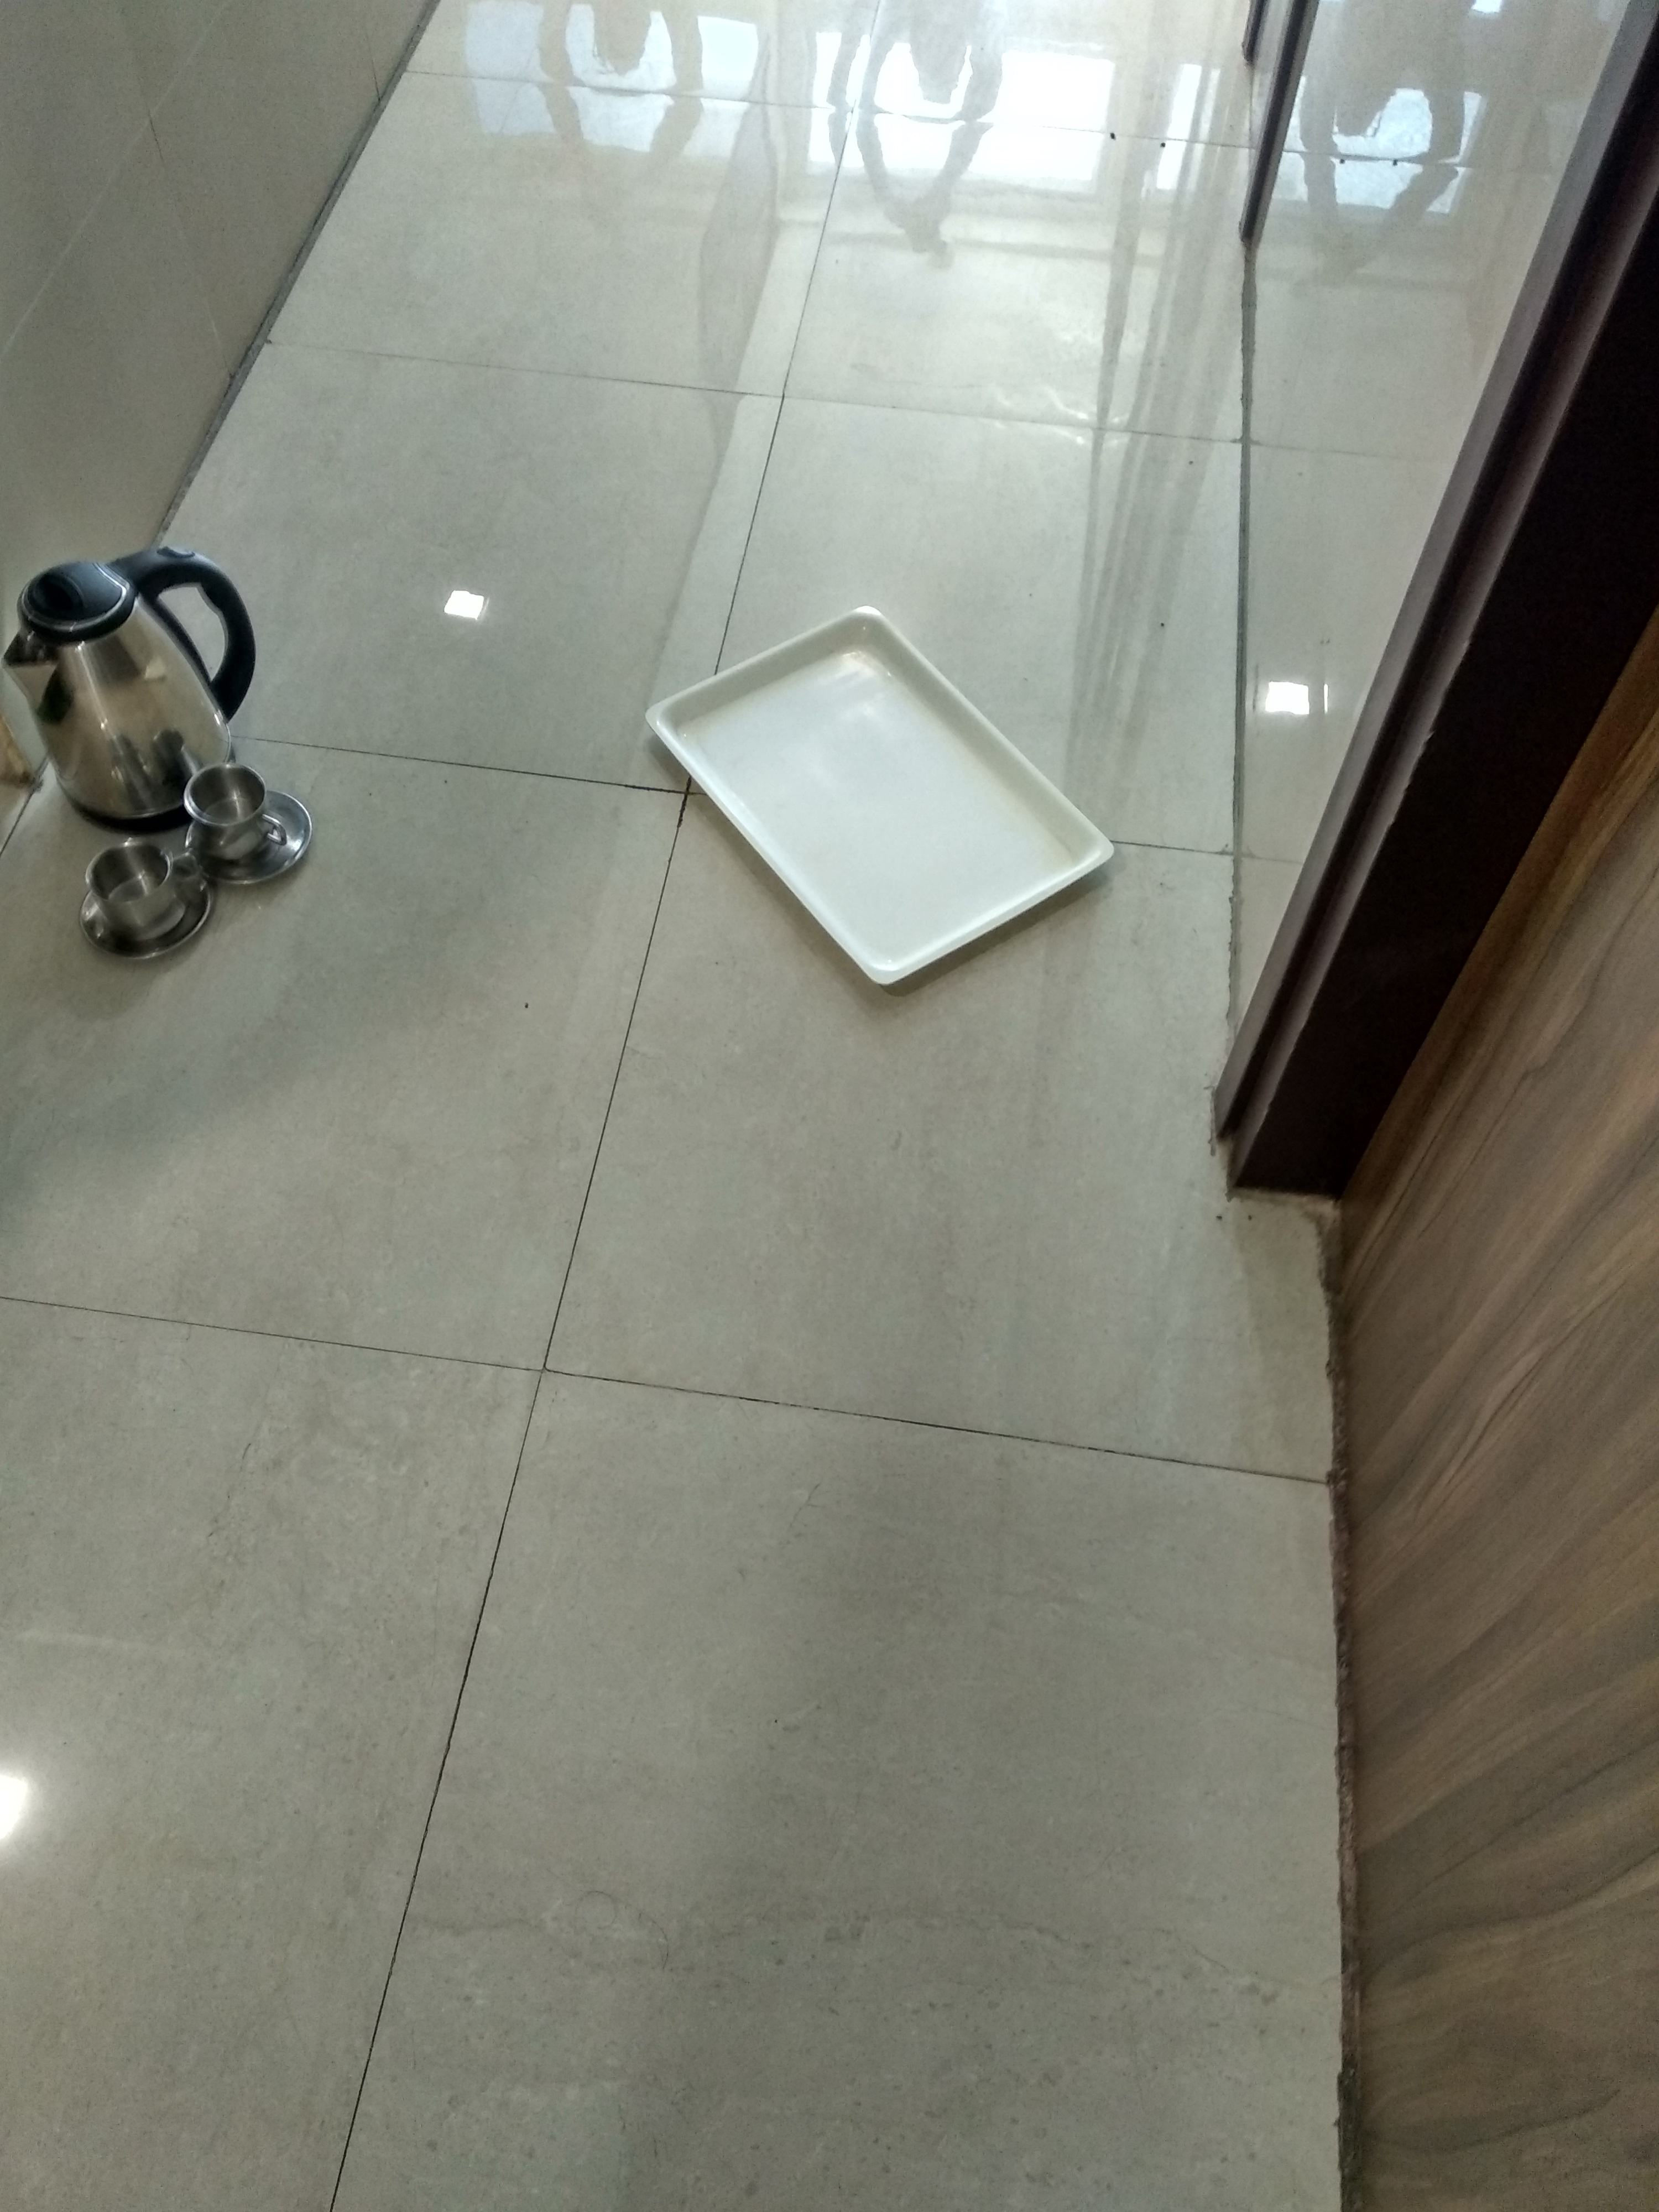CUP: (89, 829, 195, 944), (188, 759, 293, 857)
JUG: (7, 557, 256, 749)
